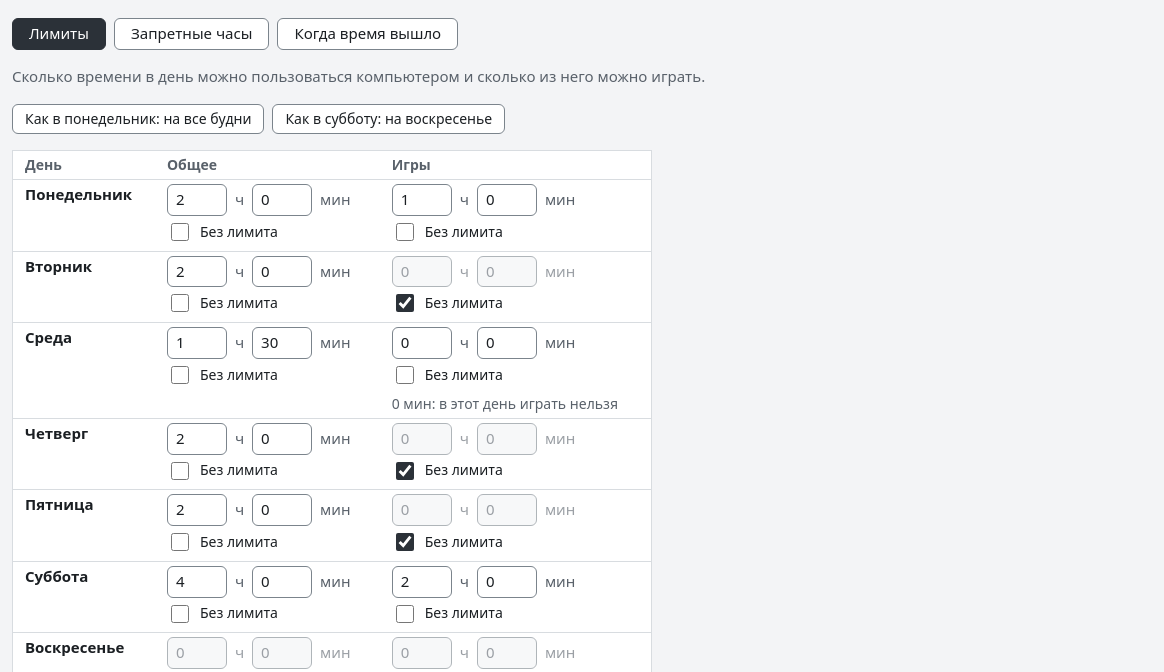
ChildLimits: быстрые кнопки › «Как в понедельник: на все будни»
Step 1. Click the button "Как в понедельник: на все будни" → (138, 119), box x1=12 y1=104 x2=264 y2=134
(page scrolled)
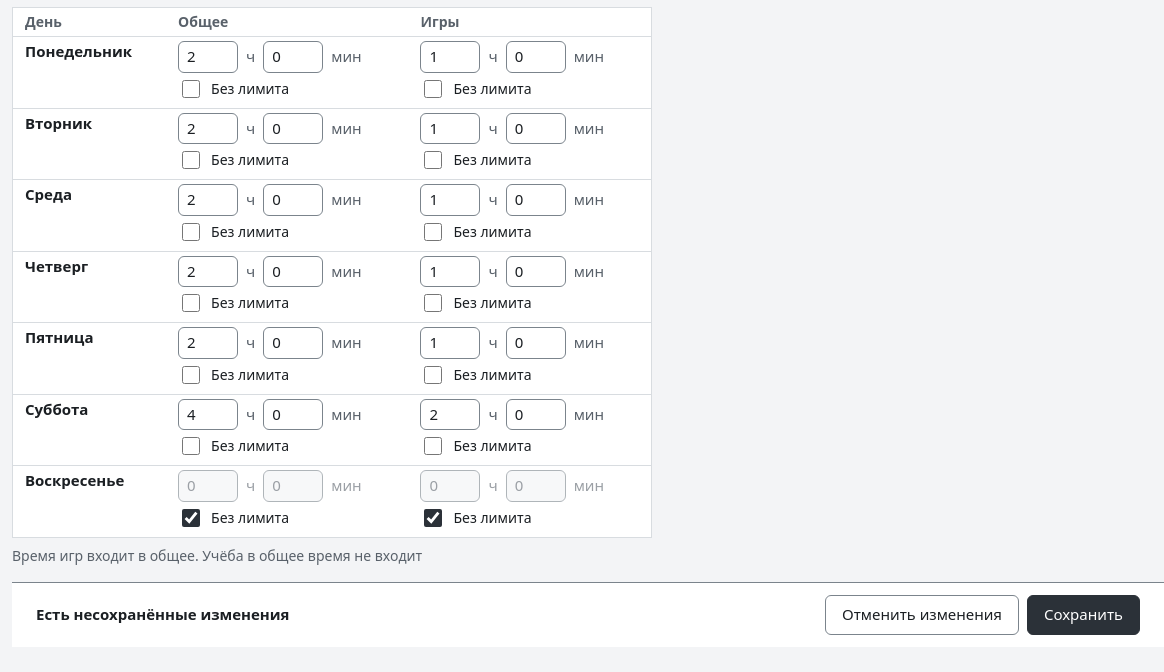
Check: the text "Есть несохранённые изменения" is shown, box x1=36 y1=604 x2=290 y2=626
